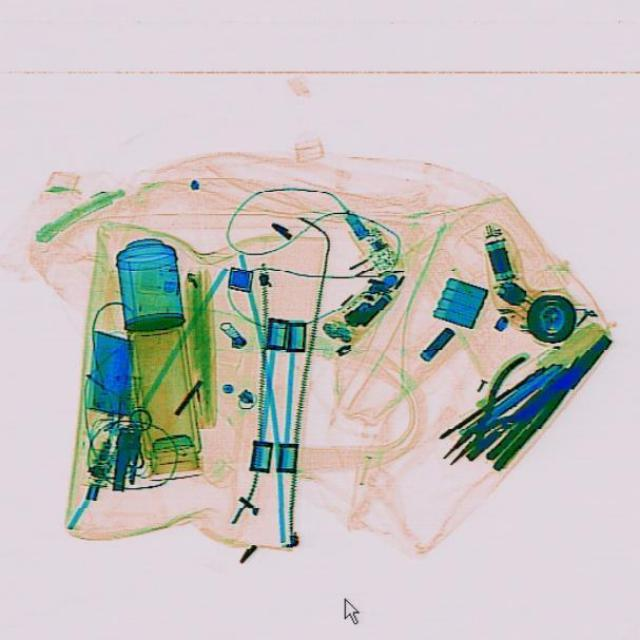Pliers: (422, 349, 562, 478)
